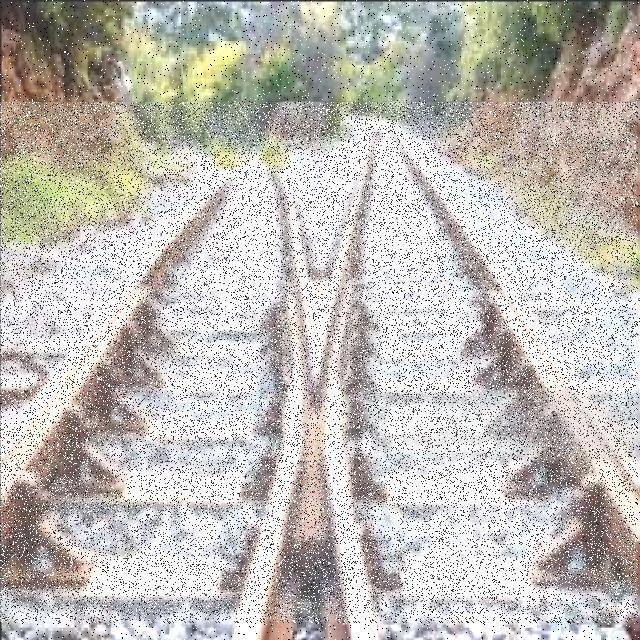rail: (2, 104, 638, 623)
